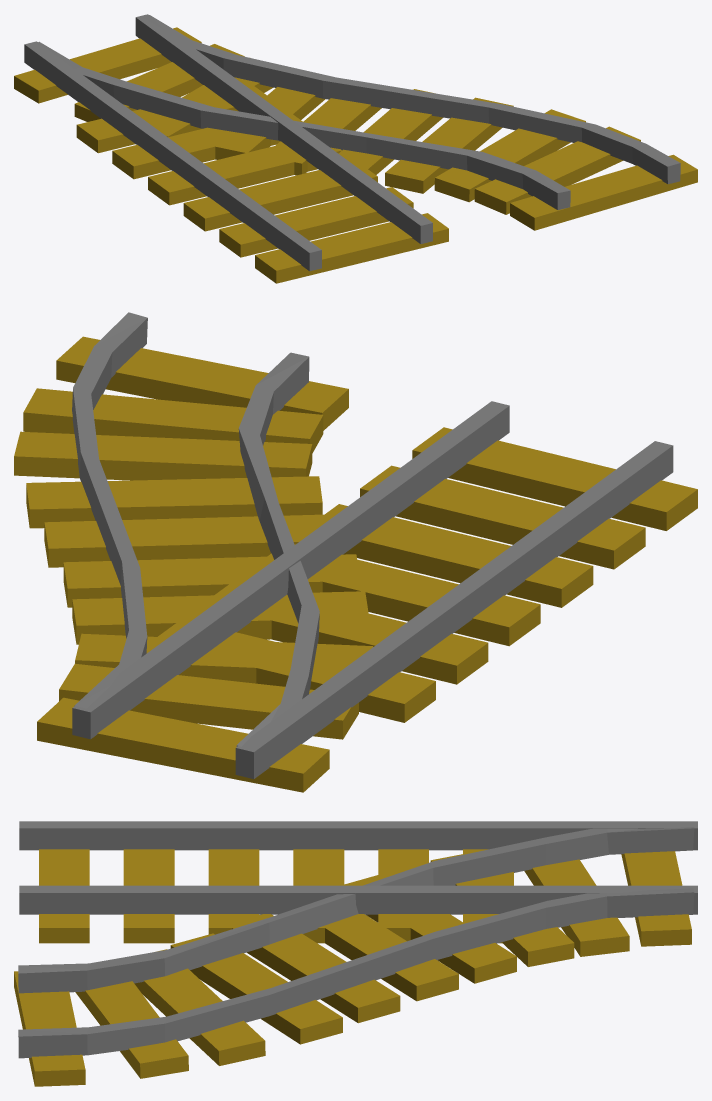
The model's file is S Bend Junction Left.fbx.
3 views of the same model, one above another, from view 1: azimuth 30°, elevation 25°; view 2: azimuth 150°, elevation 25°; view 3: azimuth 270°, elevation 25° (orthographic). The views are drawn at different scales.
Visible parts, largest first — view 1: Cube.009, Track Left.005, Track Left.004, Cube.012, Cube.027, Cube.029, Cube.028, Cube.030, Cube.000, Cube.011, Cube.013, Cube.017 (+7 smaller); view 2: Cube.009, Track Left.005, Track Left.004, Cube.011, Cube.013, Cube.017, Cube.000, Cube.012, Cube.028, Cube.027, Cube.029, Cube.016 (+7 smaller); view 3: Cube.009, Track Left.005, Track Left.004, Cube.017, Cube.016, Cube.013, Cube.015, Cube.000, Cube.012, Cube.011, Cube.028, Cube.027 (+7 smaller).
Part boxes in pixels (x1,y1,x2,y2): Cube.009: (36,15,680,209); Track Left.005: (24,41,321,271); Track Left.004: (135,14,432,243); Cube.012: (510,154,697,230); Cube.027: (255,213,448,283); Cube.029: (183,161,377,231); Cube.028: (219,187,413,257); Cube.030: (148,144,341,205); Cube.000: (474,126,640,214); Cube.011: (14,27,201,103); Cube.013: (434,109,585,202); Cube.017: (385,97,513,193); Cube.009: (72,312,319,746); Track Left.005: (235,441,673,779); Track Left.004: (72,401,509,739); Cube.011: (37,697,329,792); Cube.013: (14,431,312,480); Cube.017: (26,476,322,528); Cube.000: (23,388,323,453); Cube.012: (56,336,348,430); Cube.028: (360,465,645,569); Cube.027: (412,427,697,530); Cube.029: (308,504,593,607); Cube.016: (44,514,323,567); Cube.009: (18,827,694,1058); Track Left.005: (19,821,697,850); Track Left.004: (19,885,697,914); Cube.017: (170,933,342,1044); Cube.016: (232,914,400,1023); Cube.013: (134,949,265,1065); Cube.015: (325,914,458,1001); Cube.000: (75,981,188,1078); Cube.012: (14,971,85,1086); Cube.011: (621,851,691,946); Cube.028: (123,849,174,943); Cube.027: (39,849,89,943).
Size of the model in its own units: 850 by 66.66 by 1008.
